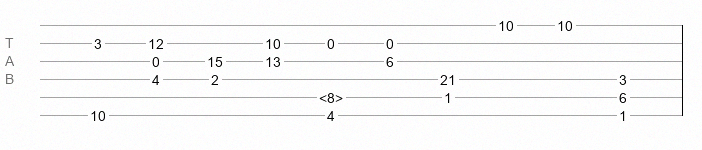0: (152, 54, 160, 64), (327, 36, 335, 46), (386, 36, 394, 46)
1: (444, 90, 452, 100), (619, 108, 627, 118)
10: (90, 108, 106, 118), (265, 36, 281, 46), (498, 18, 514, 28), (557, 18, 573, 28)
12: (148, 36, 164, 46)
13: (265, 54, 281, 64)
15: (207, 54, 223, 64)
2: (211, 72, 219, 82)
21: (440, 72, 456, 82)
3: (94, 36, 102, 46), (619, 72, 627, 82)
4: (152, 72, 160, 82), (327, 108, 335, 118)
6: (386, 54, 394, 64), (619, 90, 627, 100)
harmonic: (319, 90, 343, 100)
